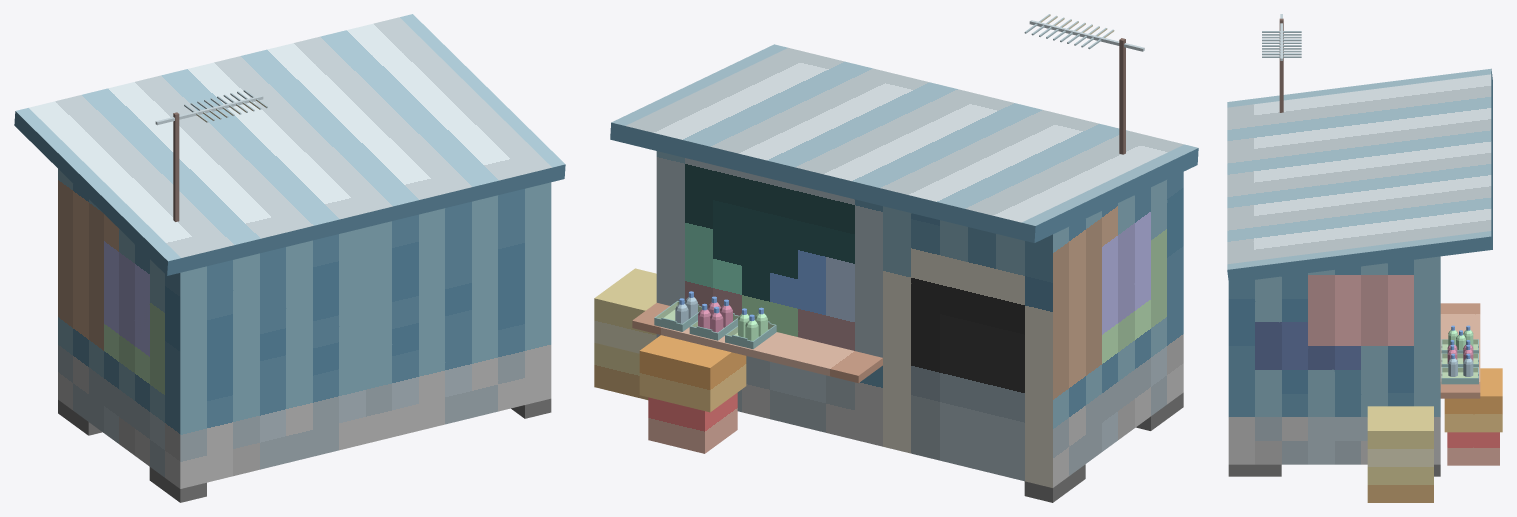
The model's file is Warung_2.fbx.
The picture shows the model from 3 angles, left to right: view 1: azimuth 30°, elevation 25°; view 2: azimuth 150°, elevation 25°; view 3: azimuth 270°, elevation 25°; orthographic projection. The views are drawn at different scales.
Parts seen in each view (by area): view 1: Bangunan, cube_19, cube_1; view 2: Bangunan, Tempat minuman_1, cube_4, Tempat minuman_3, Tempat minuman, Tempat minuman_2, cube_17, cube_1; view 3: Bangunan, Tempat minuman_3, Tempat minuman_1, Tempat minuman_2, cube_4, Tempat minuman, cube_18, cube_5, cube_1.
Boxes of the visible parts, bbox=[...] form: Bangunan: bbox=[14, 14, 565, 488]; cube_19: bbox=[149, 467, 206, 502]; cube_1: bbox=[173, 112, 179, 221]; Bangunan: bbox=[610, 44, 1198, 487]; Tempat minuman_1: bbox=[639, 335, 746, 412]; cube_4: bbox=[632, 303, 882, 383]; Tempat minuman_3: bbox=[594, 268, 656, 353]; Tempat minuman: bbox=[648, 392, 737, 453]; Tempat minuman_2: bbox=[594, 343, 648, 399]; cube_17: bbox=[1024, 464, 1085, 502]; cube_1: bbox=[1119, 38, 1125, 154]; Bangunan: bbox=[1227, 68, 1492, 464]; Tempat minuman_3: bbox=[1367, 406, 1433, 466]; Tempat minuman_1: bbox=[1444, 368, 1502, 432]; Tempat minuman_2: bbox=[1367, 467, 1433, 502]; cube_4: bbox=[1440, 303, 1480, 398]; Tempat minuman: bbox=[1447, 432, 1499, 465]; cube_18: bbox=[1228, 464, 1281, 476]; cube_5: bbox=[1441, 367, 1478, 384]; cube_1: bbox=[1279, 18, 1283, 112].
Size of the model in its own units: 843 by 650 by 521.
Materials: 1 (1 with a texture image).
